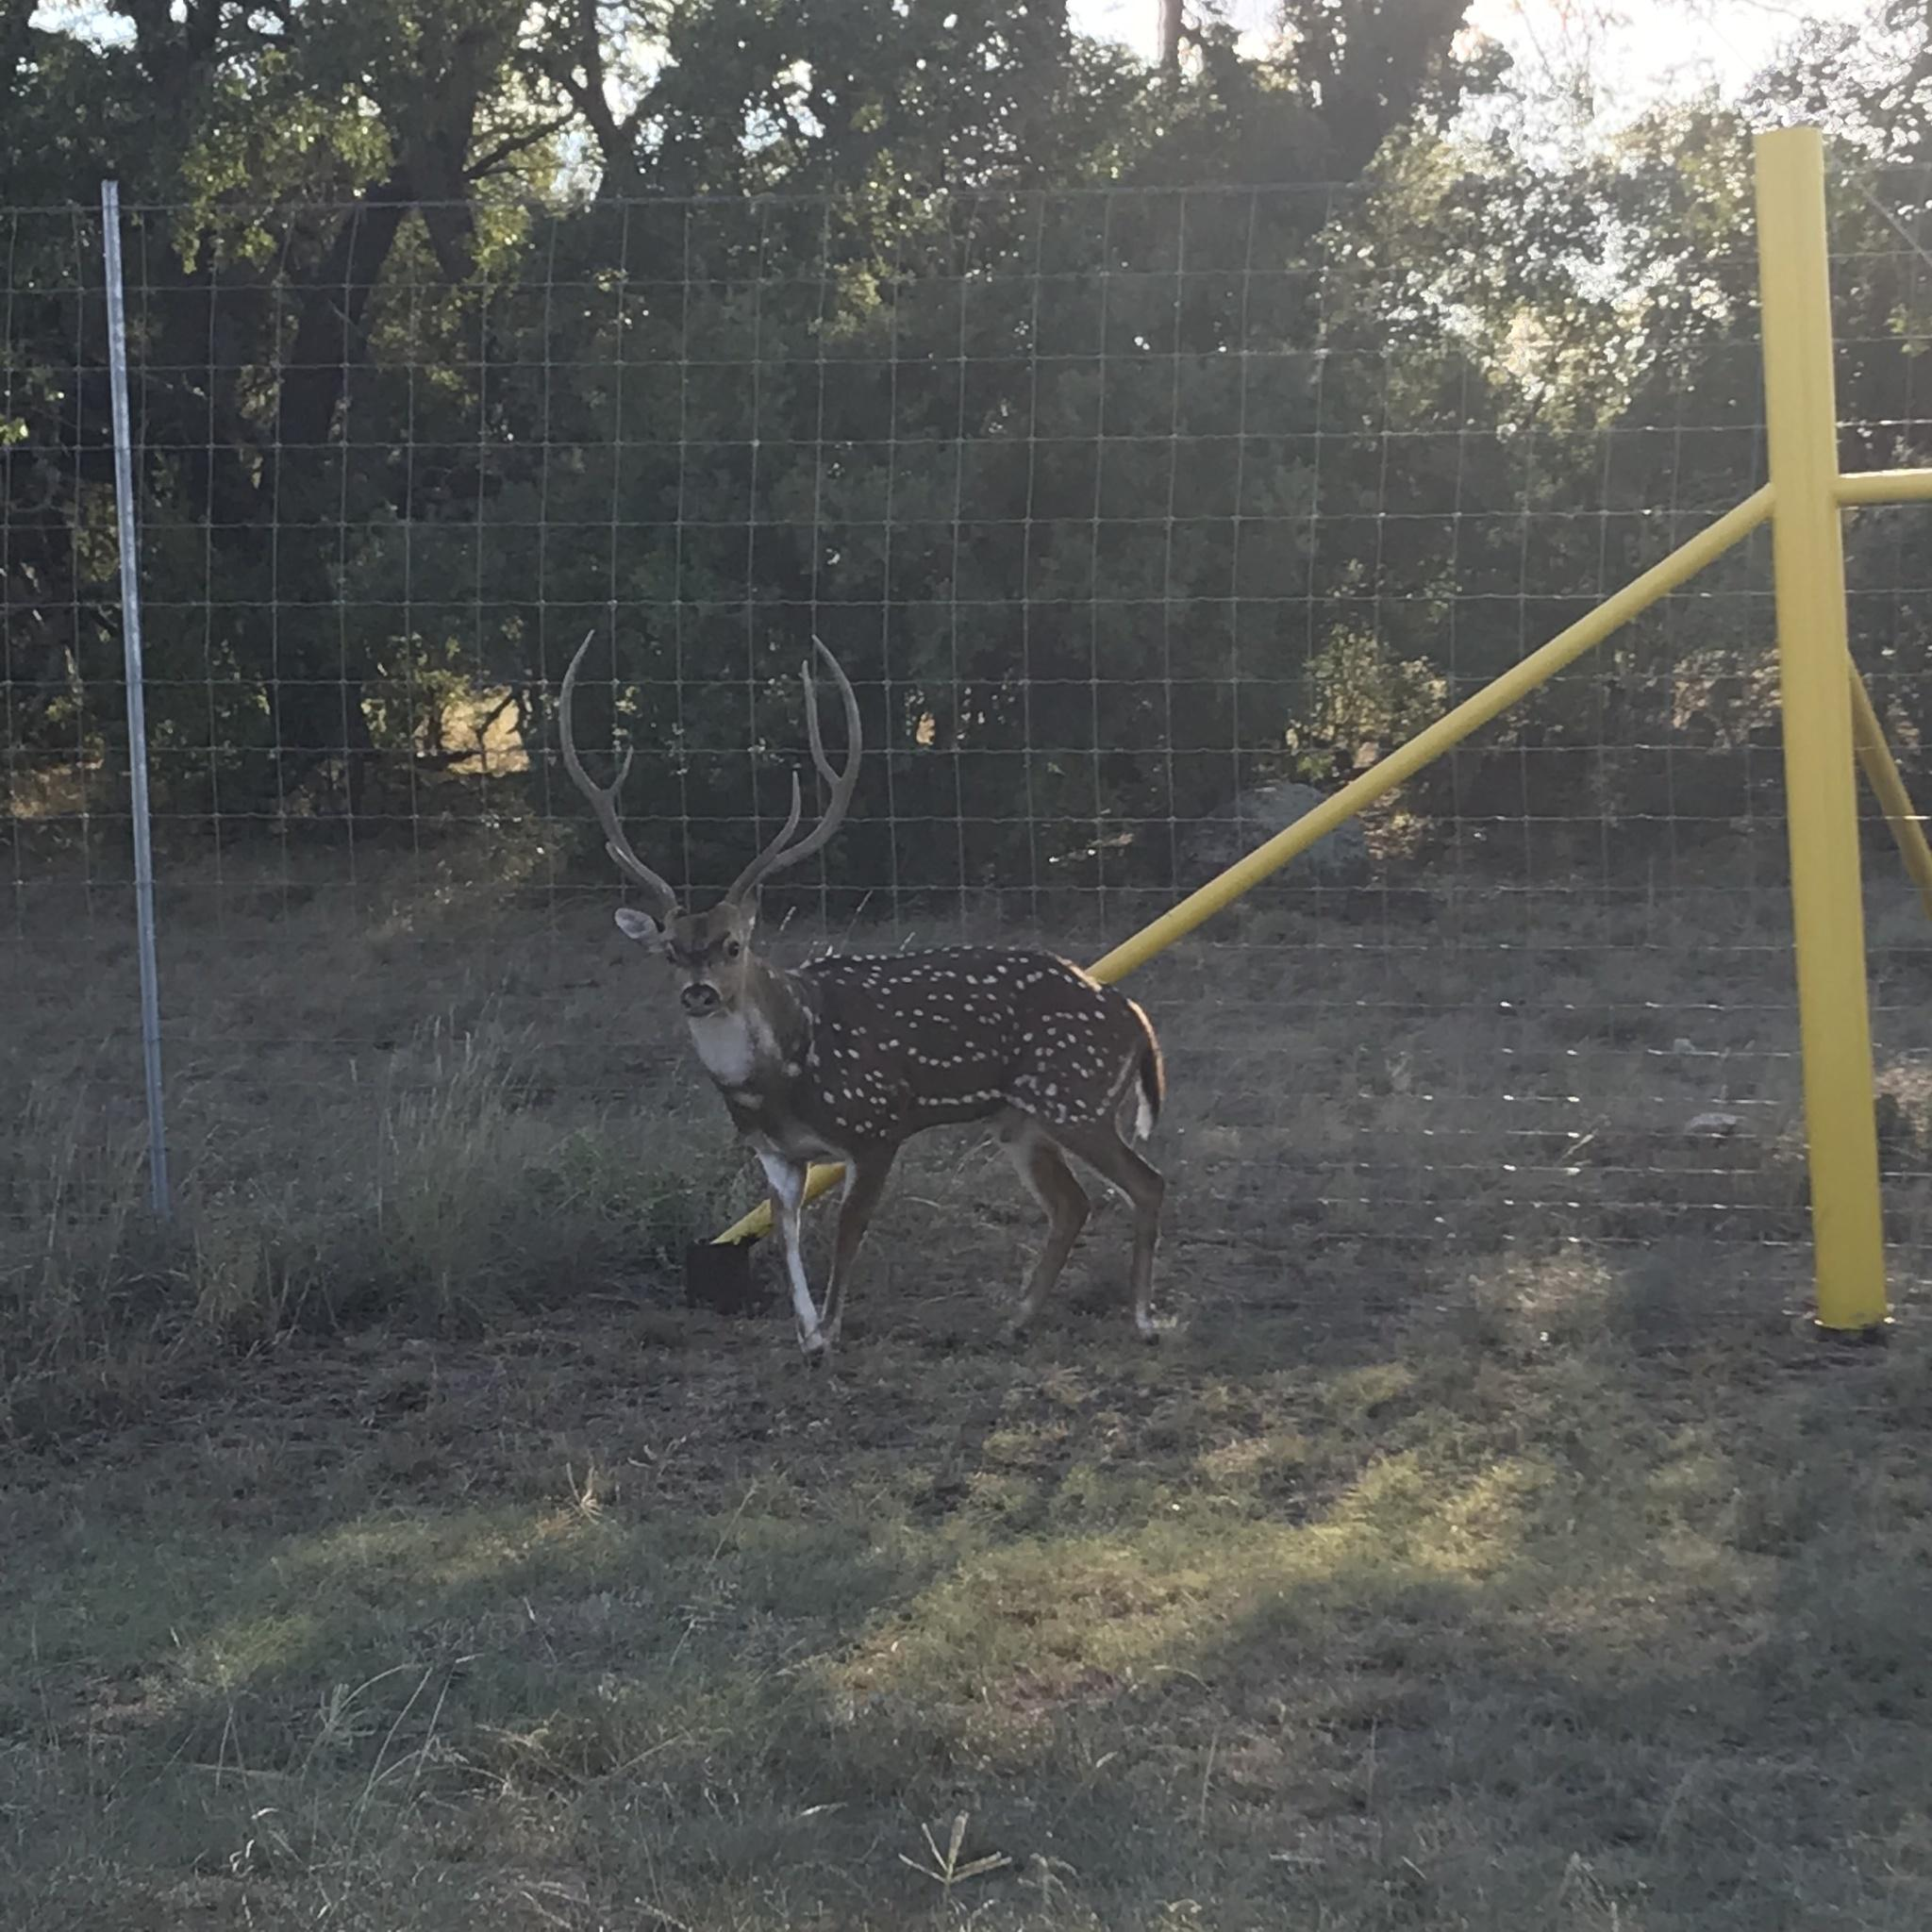Deer: (559, 640, 1166, 1353)
